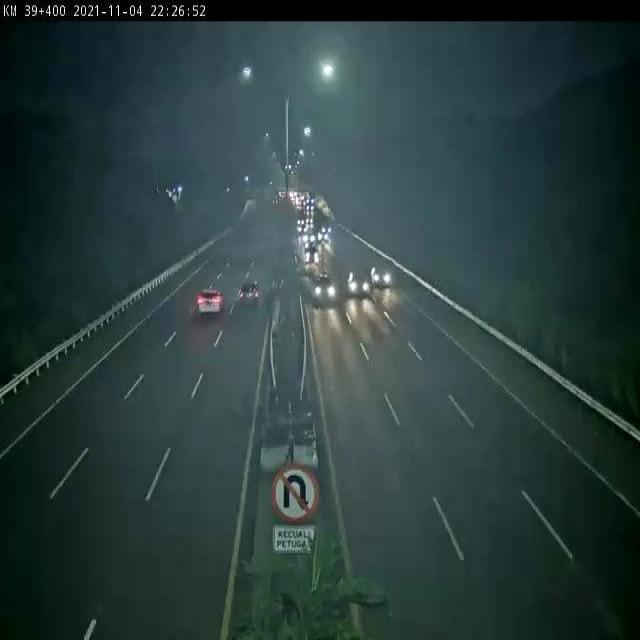car: (312, 272, 337, 307), (345, 264, 370, 297), (196, 287, 224, 316), (237, 280, 263, 309), (371, 260, 392, 291)
